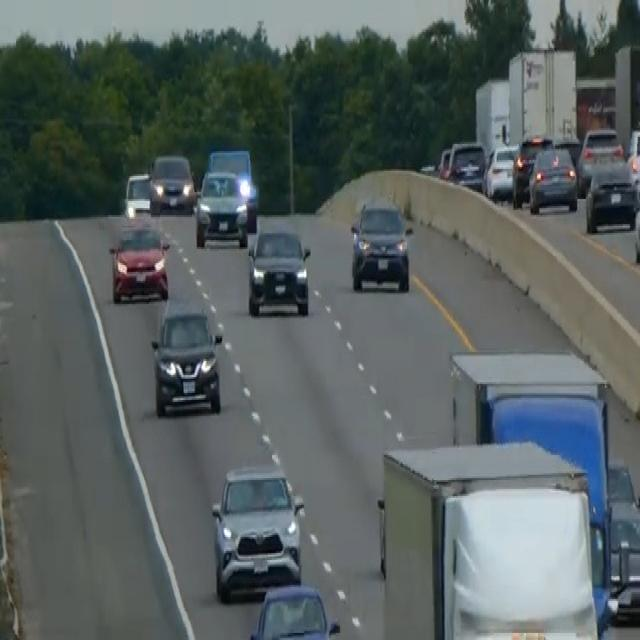car: (210, 462, 305, 601), (150, 304, 223, 418), (349, 196, 413, 292), (246, 226, 311, 316), (248, 582, 341, 638), (108, 220, 171, 302), (194, 167, 249, 247), (206, 146, 258, 229), (605, 457, 639, 579), (584, 160, 638, 233), (527, 144, 578, 213), (576, 124, 624, 194), (511, 134, 554, 206), (149, 151, 195, 213), (440, 139, 486, 192), (483, 142, 518, 201), (122, 170, 159, 218), (632, 192, 639, 265)
lorry: (447, 347, 619, 628), (474, 45, 579, 156)
